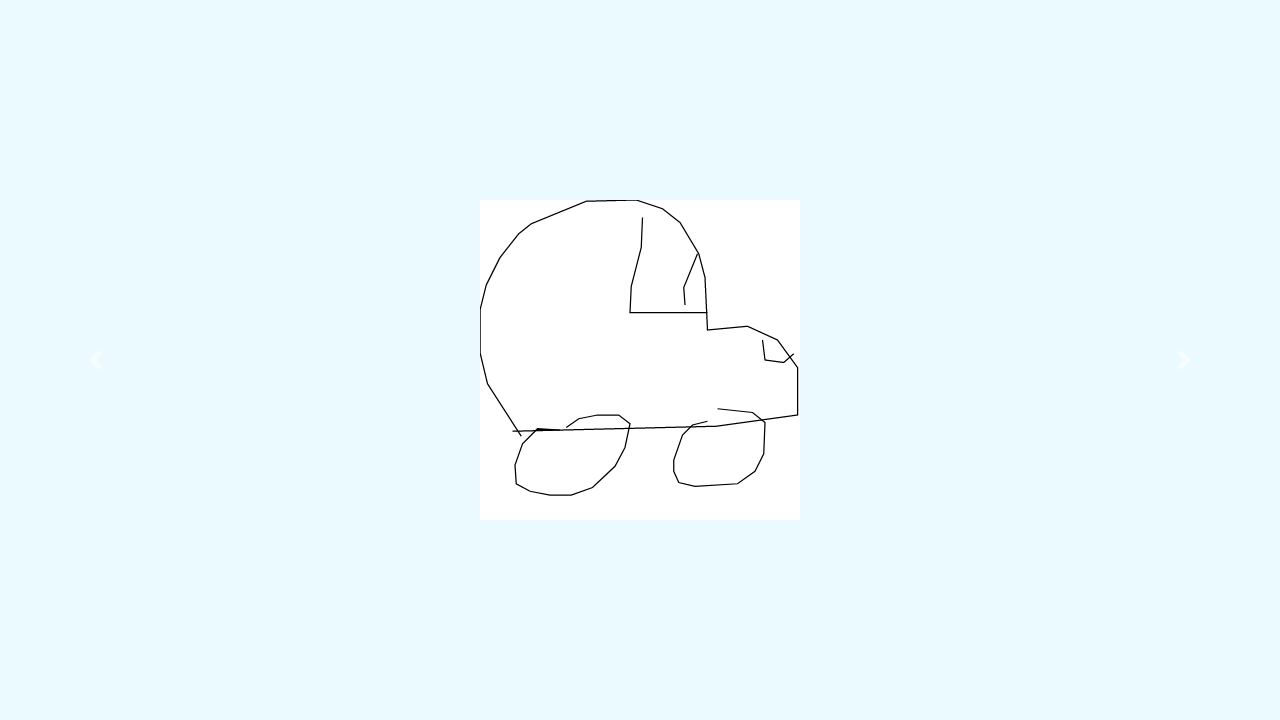car: (476, 196, 801, 501)
